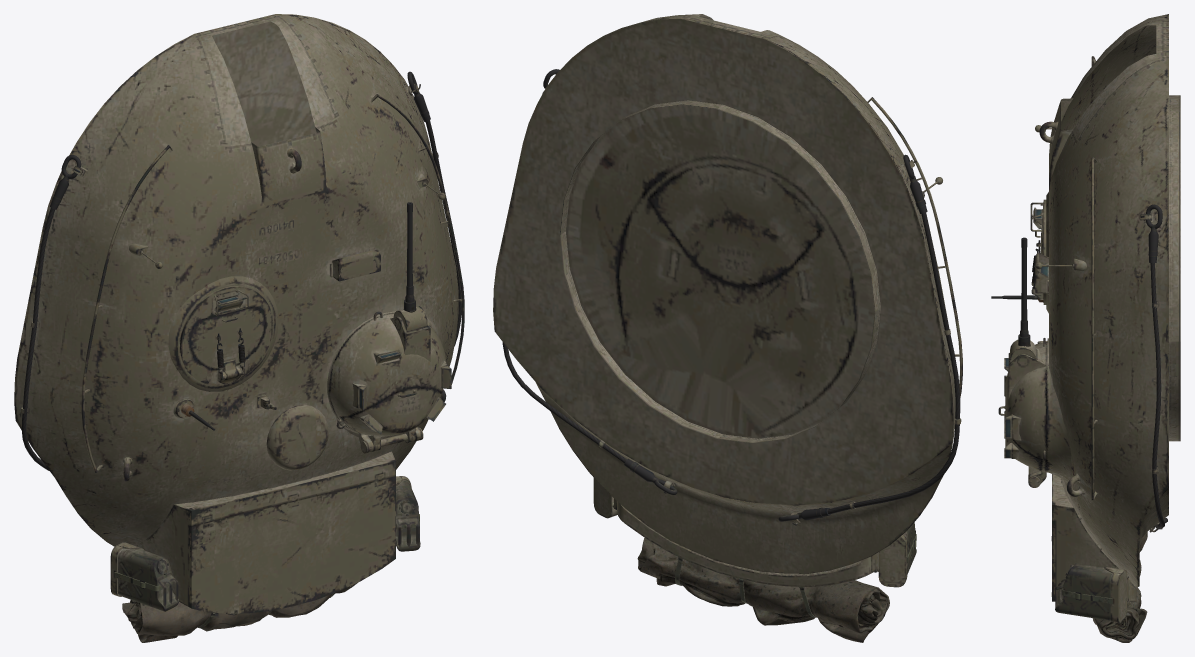
Rendered from Turret_01.glb.
3 views of the same model, side by side, from view 1: azimuth 30°, elevation 25°; view 2: azimuth 150°, elevation 25°; view 3: azimuth 270°, elevation 25° (orthographic). The views are drawn at different scales.
Visible parts, largest first — view 1: set_0_group_0; view 2: set_0_group_0; view 3: set_0_group_0.
Boxes of the visible parts, x1=… form: set_0_group_0: x1=14, y1=14, x2=464, y2=642; set_0_group_0: x1=493, y1=14, x2=962, y2=642; set_0_group_0: x1=991, y1=14, x2=1180, y2=642.
Size of the model in its own units: 3.46 by 4.36 by 1.29.
Materials: 1 (1 with a texture image).
